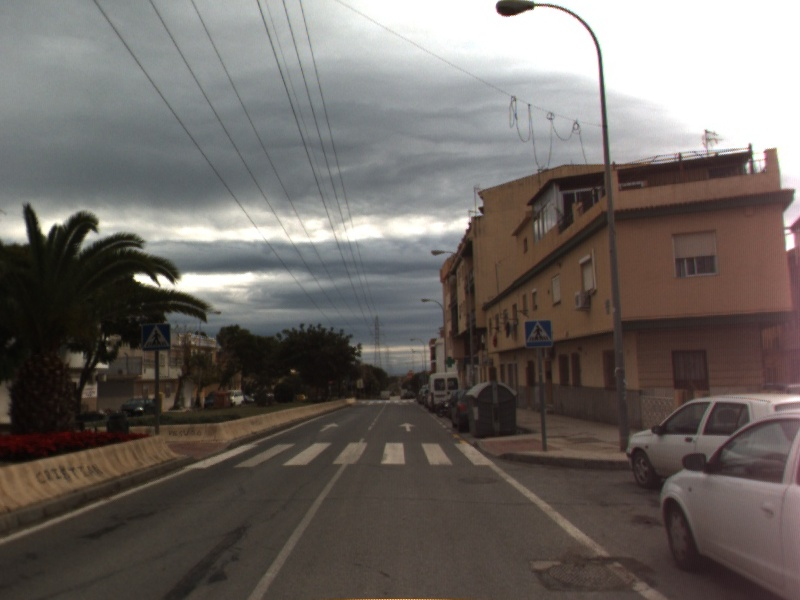STRAIGHT: (317, 420, 341, 433), (397, 421, 418, 433)
